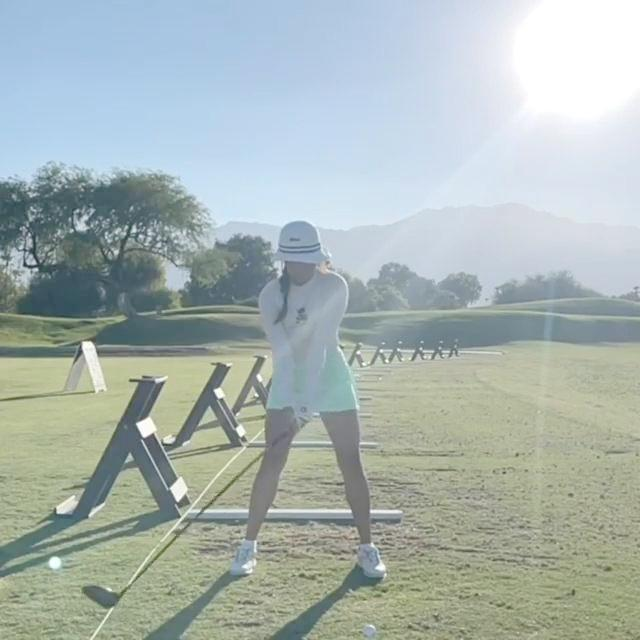ClubHead: (82, 586, 117, 610)
GolfBall: (49, 556, 62, 569), (363, 625, 376, 638)
